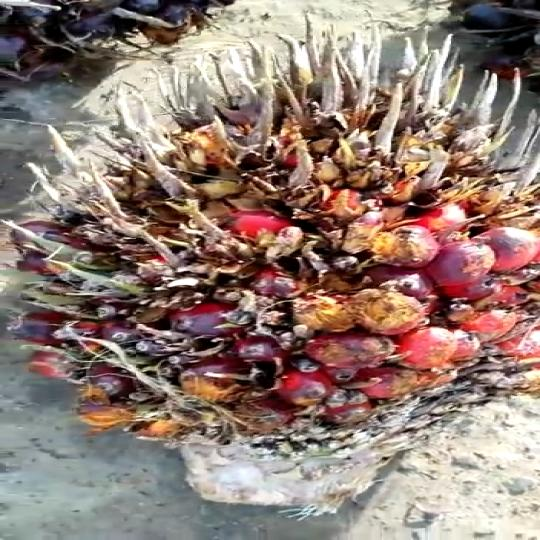terlalu masak: (0, 31, 540, 511)
